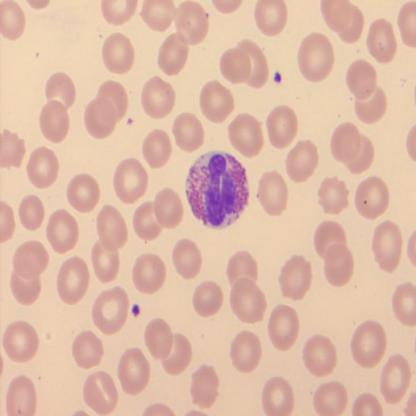Eosinophil: (186, 148, 250, 233)
